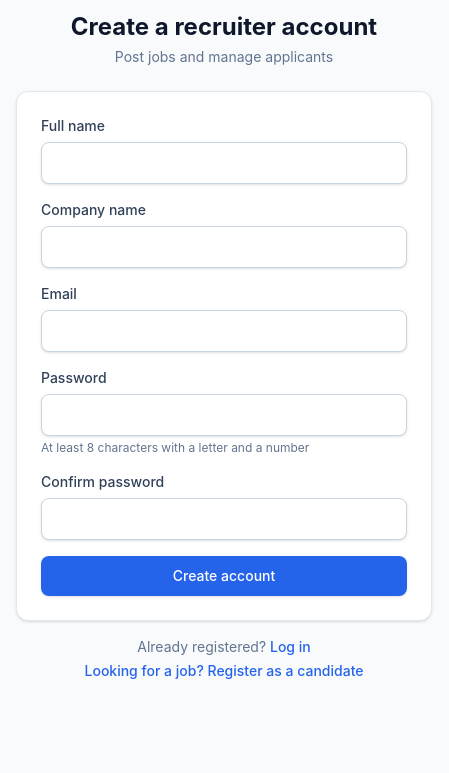
Test: Register form › recruiter variant requires a company name
Click the button "Create account".
click(224, 576)  # box [41,556,407,596]
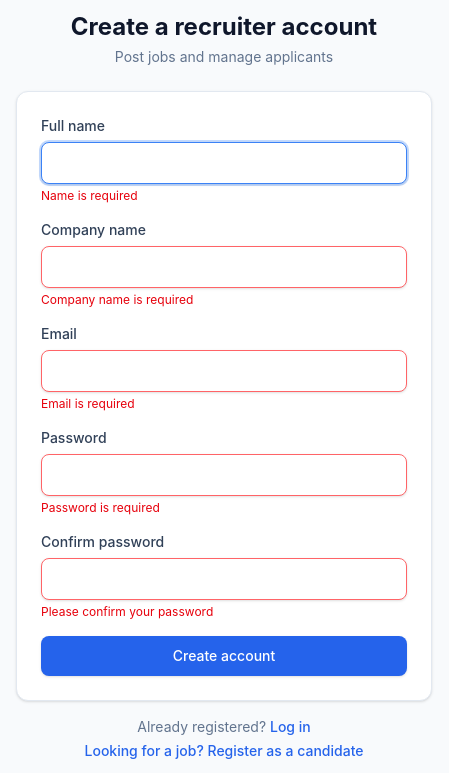
Expected: the text "Company name is required" is shown, [41,292,193,307]
